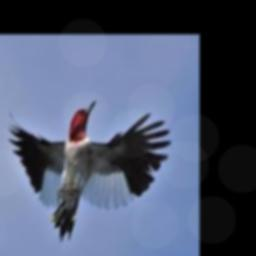Woodpecker: (7, 100, 170, 241)
